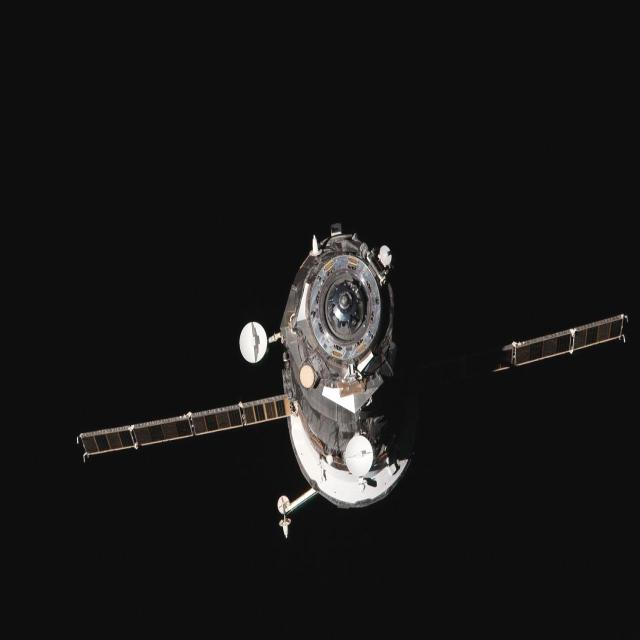medium_debris: (78, 224, 628, 535)
